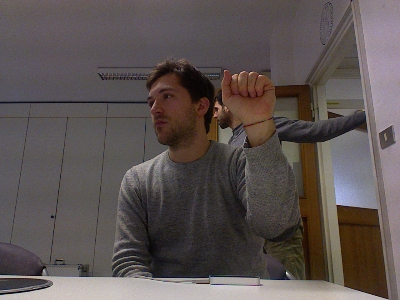石头: (219, 67, 276, 120)
